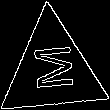M_W: (28, 44, 77, 95)
